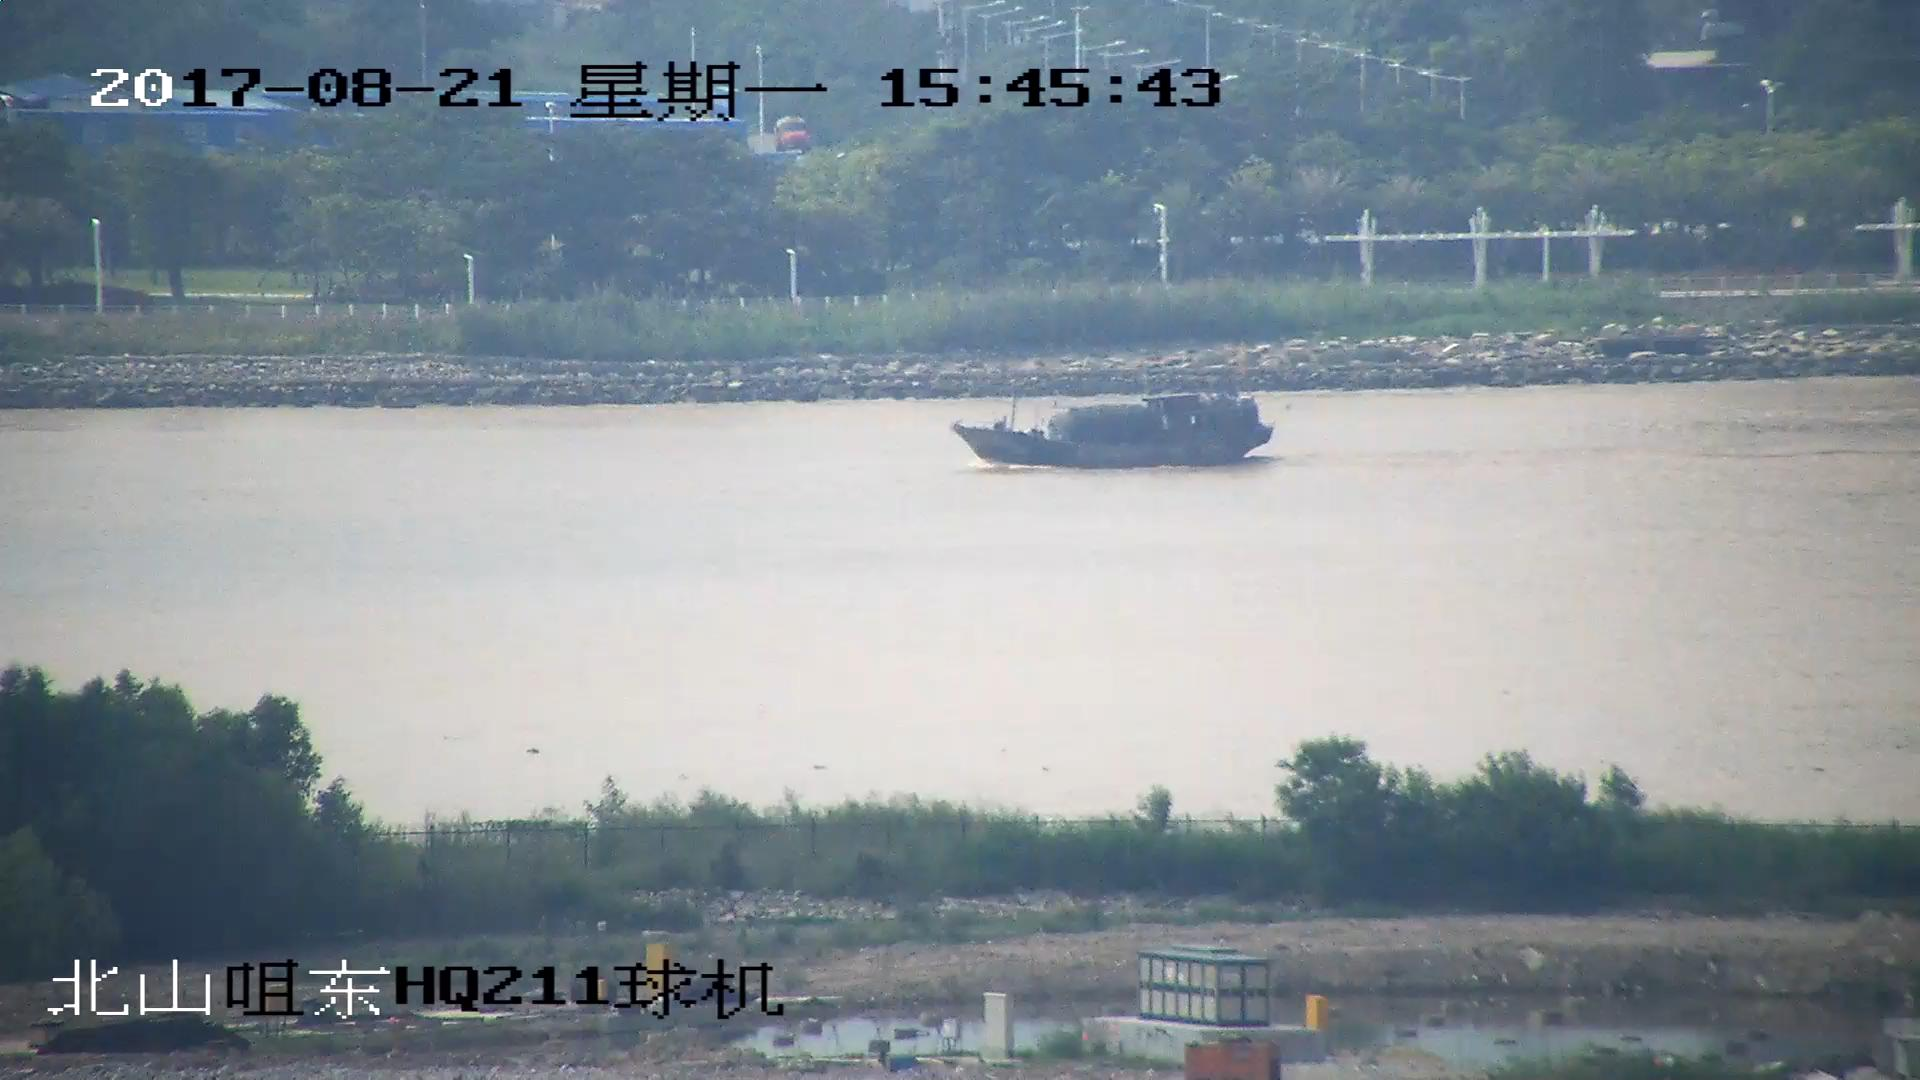fishing boat: (952, 379, 1271, 467)
